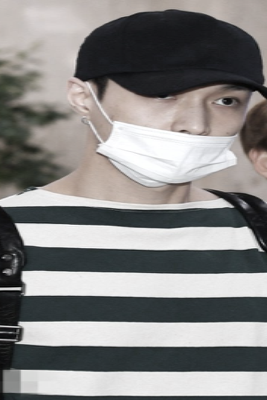mask_weared_incorrect: (90, 86, 249, 184)
